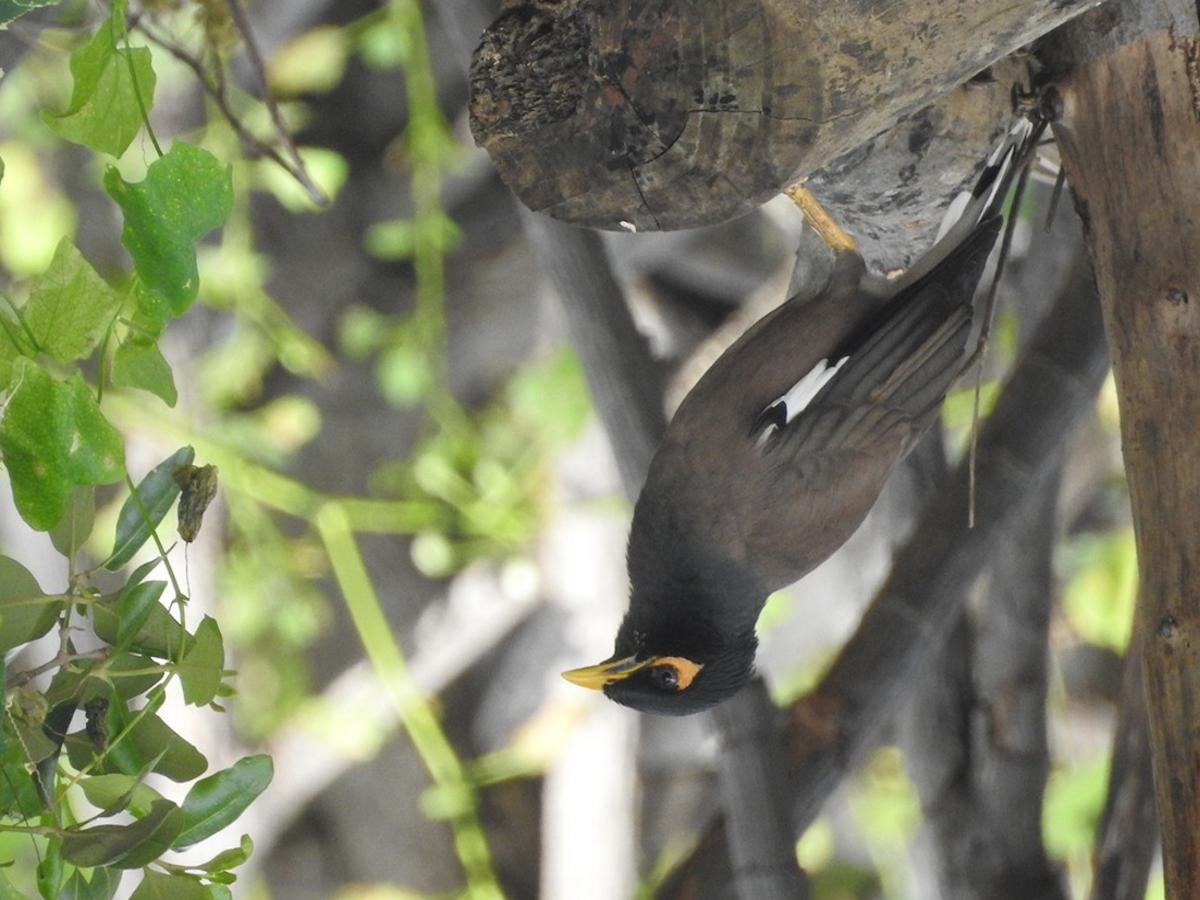myna: (540, 150, 983, 726)
